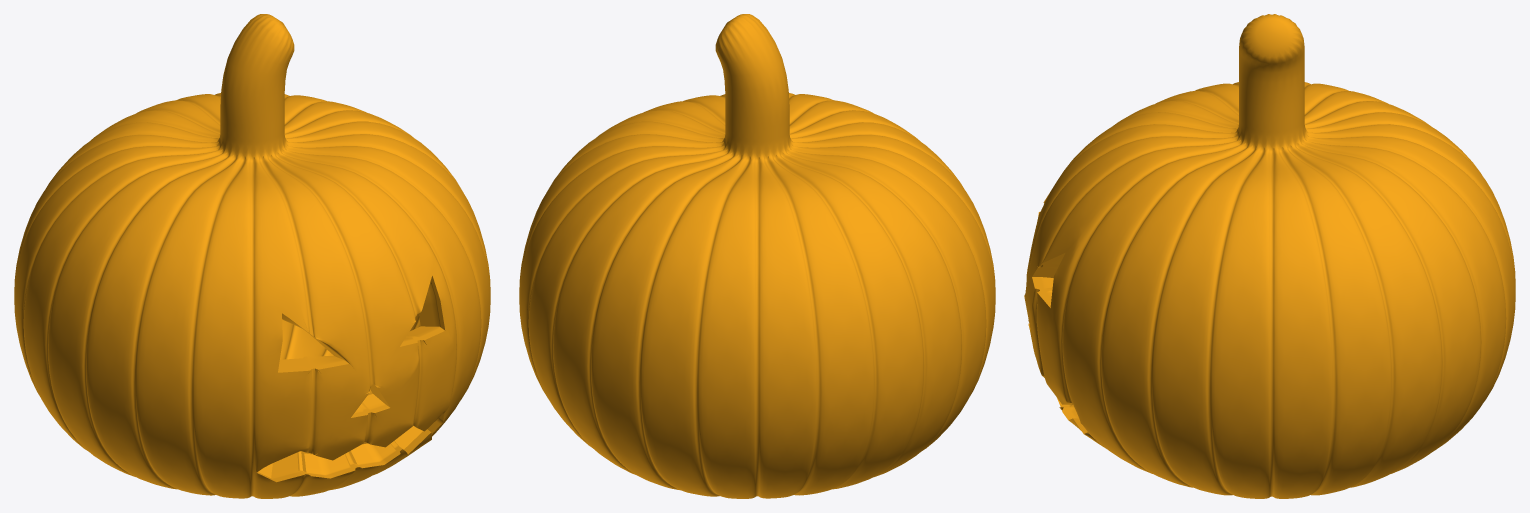
Rendered from pumkin.glb.
The picture shows the model from 3 angles, left to right: view 1: azimuth 30°, elevation 25°; view 2: azimuth 150°, elevation 25°; view 3: azimuth 270°, elevation 25°; orthographic projection. The views are drawn at different scales.
Visible parts, largest first — view 1: Object_2; view 2: Object_2; view 3: Object_2.
Boxes of the visible parts, left/top/right/bottom form: Object_2: left=14, top=14, right=490, bottom=498; Object_2: left=519, top=14, right=995, bottom=498; Object_2: left=1024, top=14, right=1515, bottom=498.
Bounding box in the file's own units: 196 × 201 × 198.
